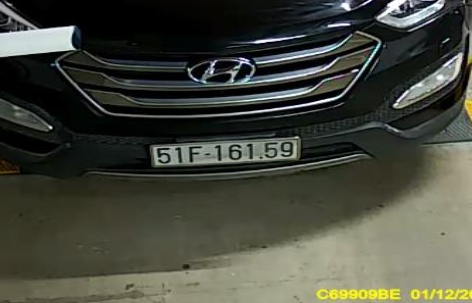plate: (152, 139, 301, 163)
